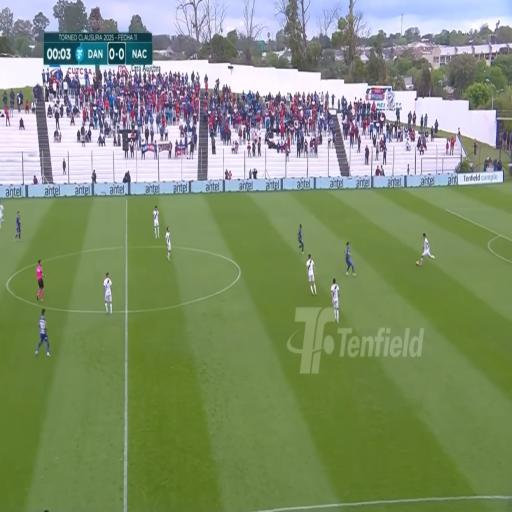Ball: (416, 258, 419, 266)
Player: (332, 277, 341, 324), (38, 308, 48, 350), (344, 239, 354, 280), (306, 254, 316, 294), (421, 232, 432, 268), (104, 277, 112, 313), (153, 205, 160, 238), (15, 208, 21, 242), (166, 225, 172, 257), (0, 200, 5, 234), (298, 224, 304, 250)
Referee: (36, 260, 44, 296)
